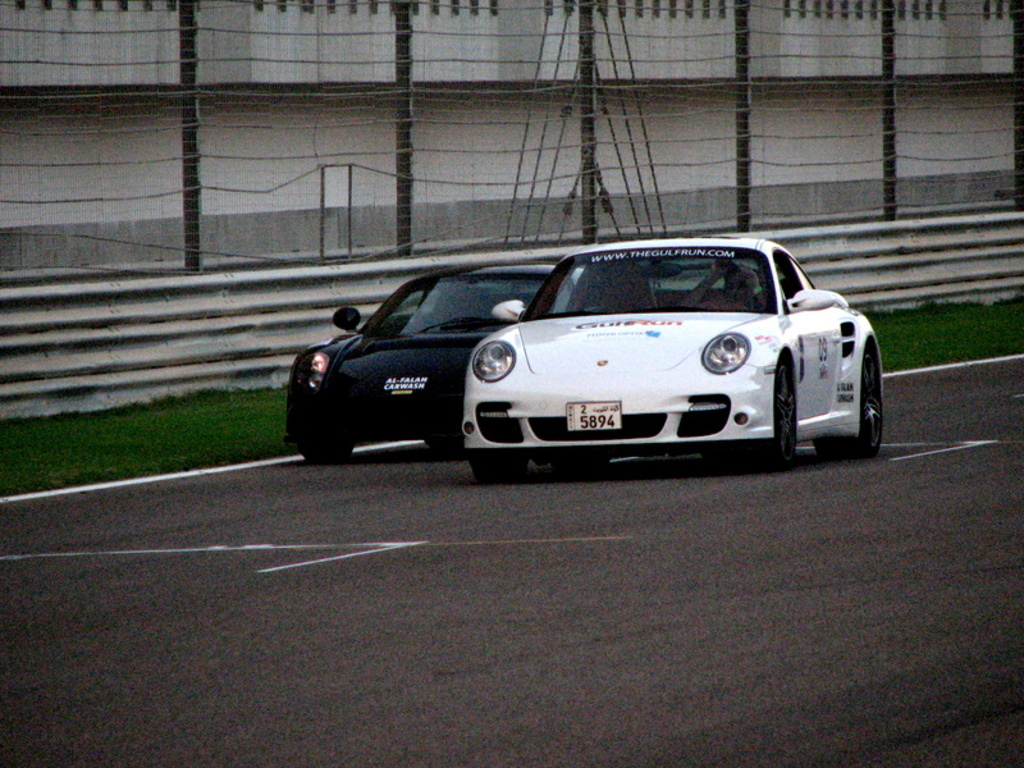Car: (465, 232, 883, 482), (280, 261, 564, 467)
